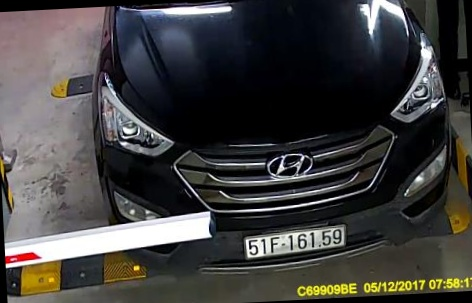plate: (241, 221, 354, 261)
